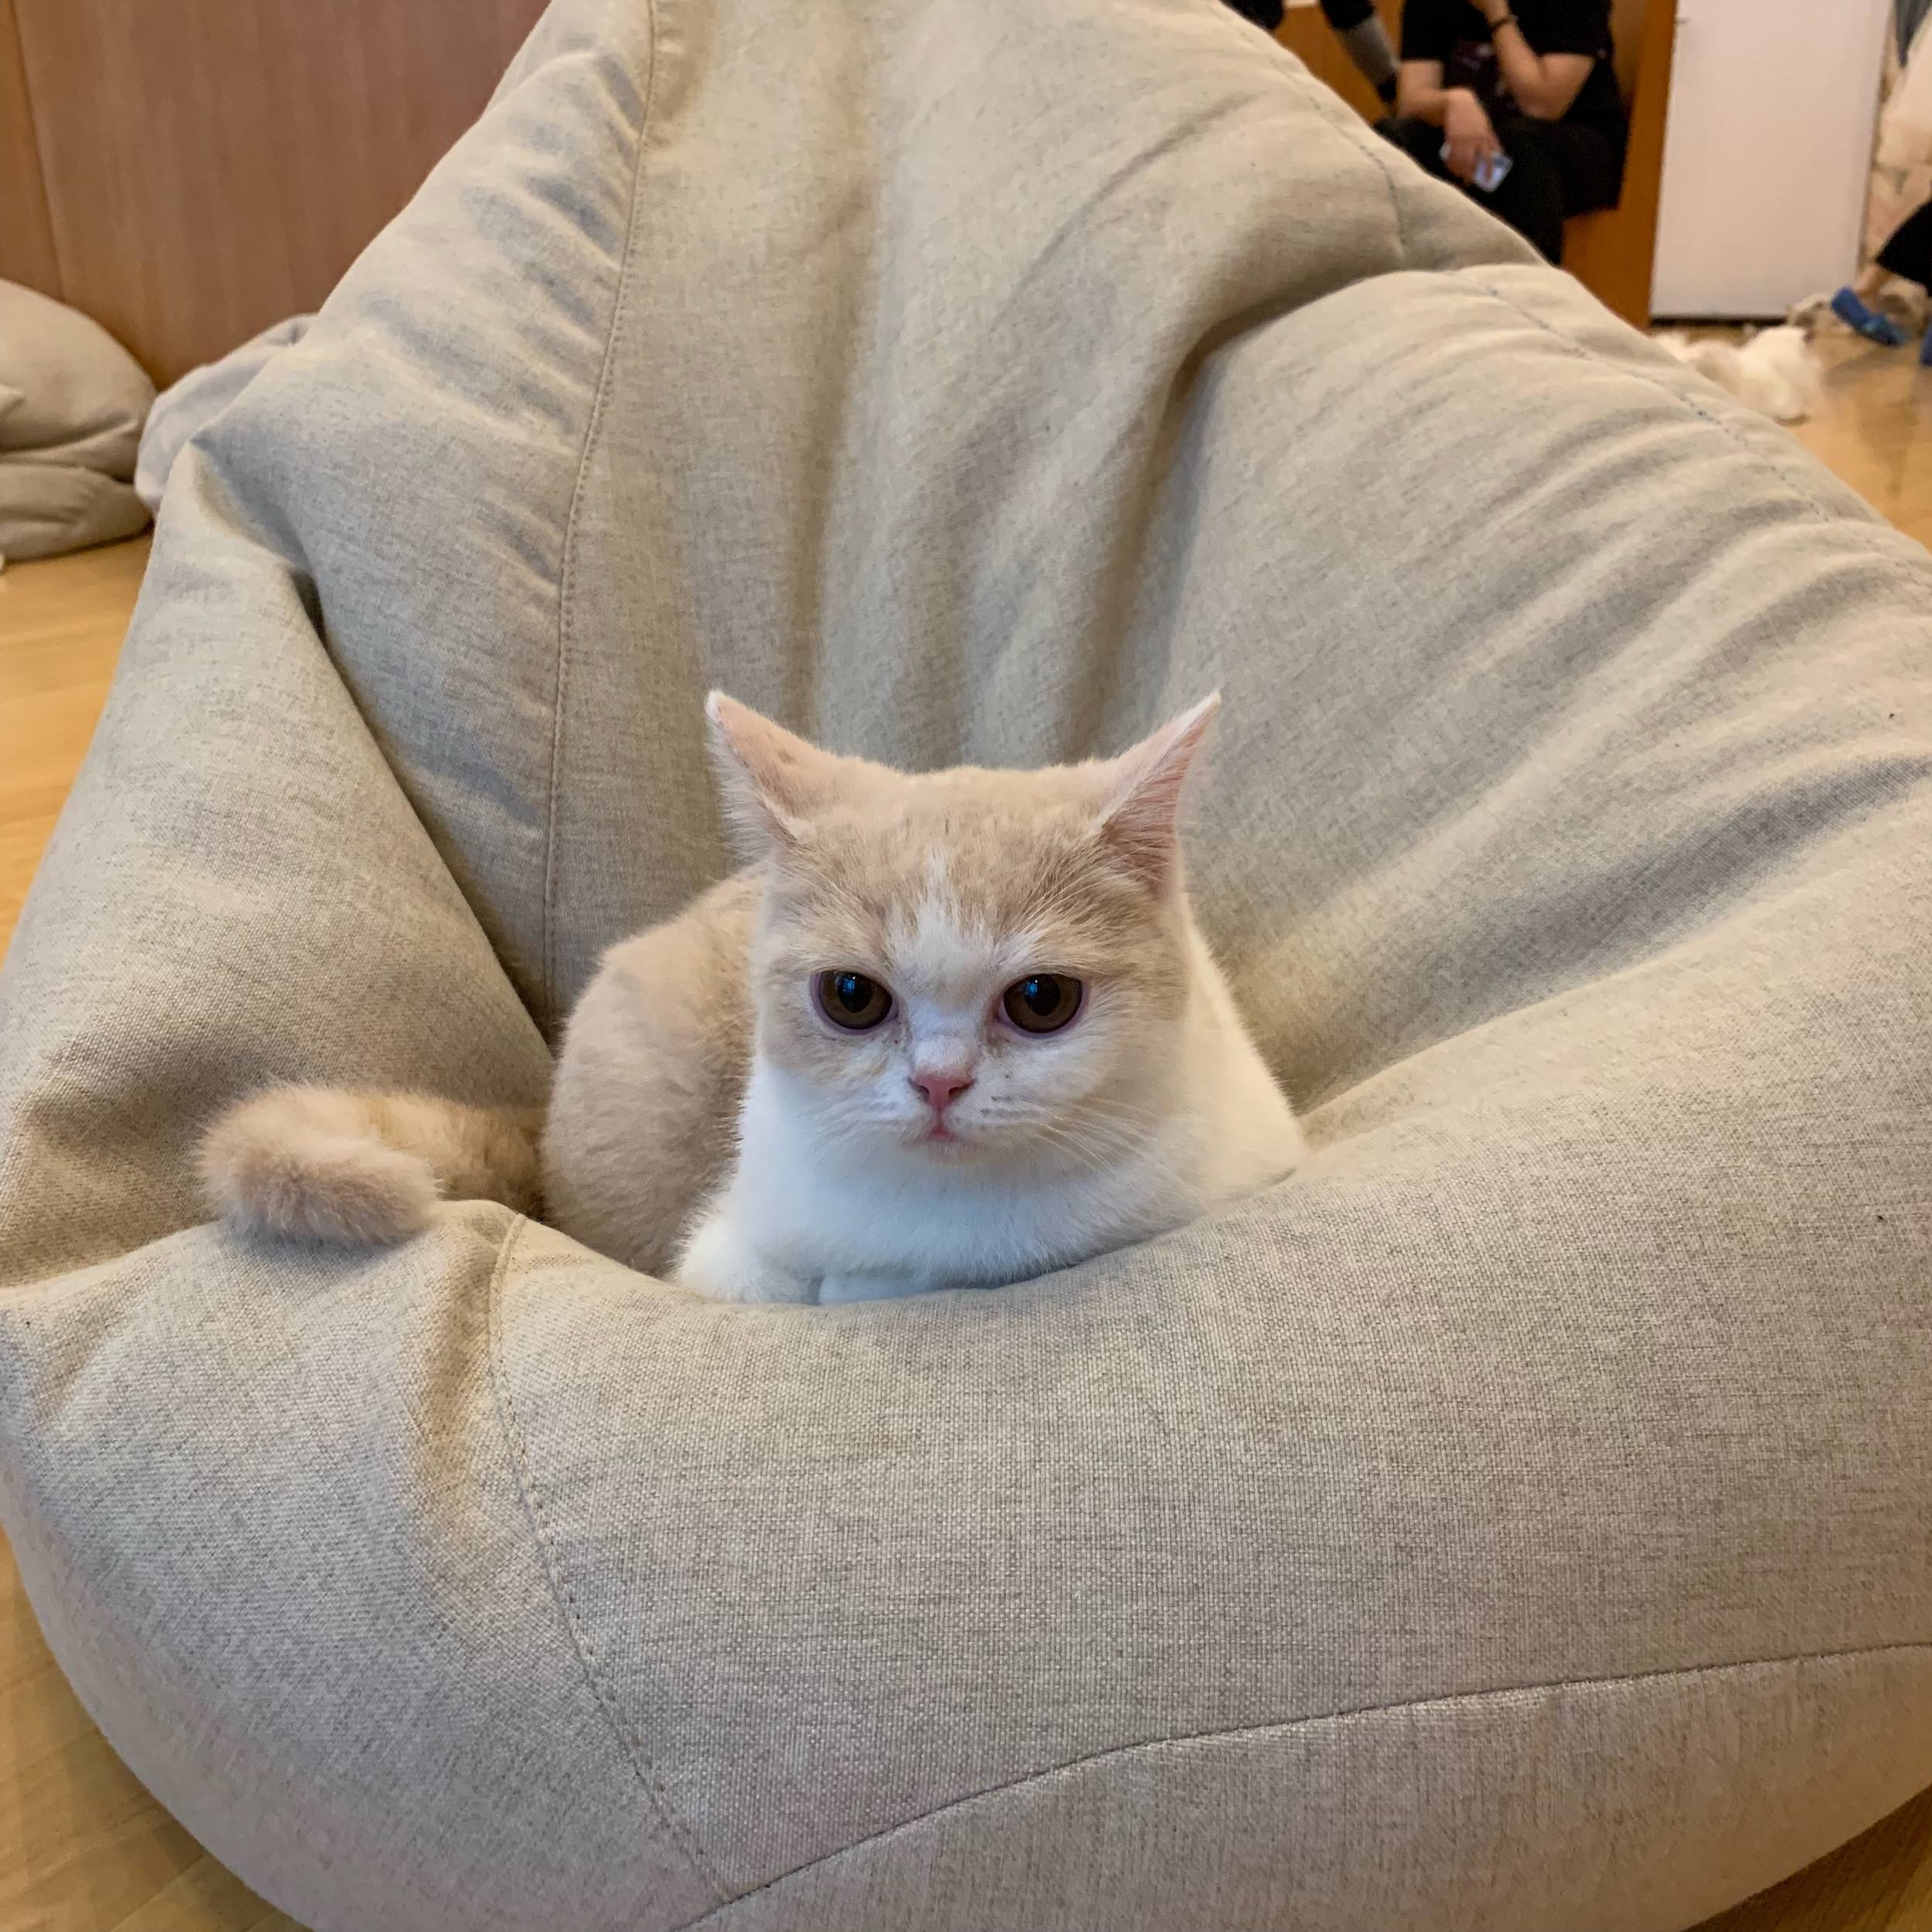cat: (218, 697, 1311, 1311)
